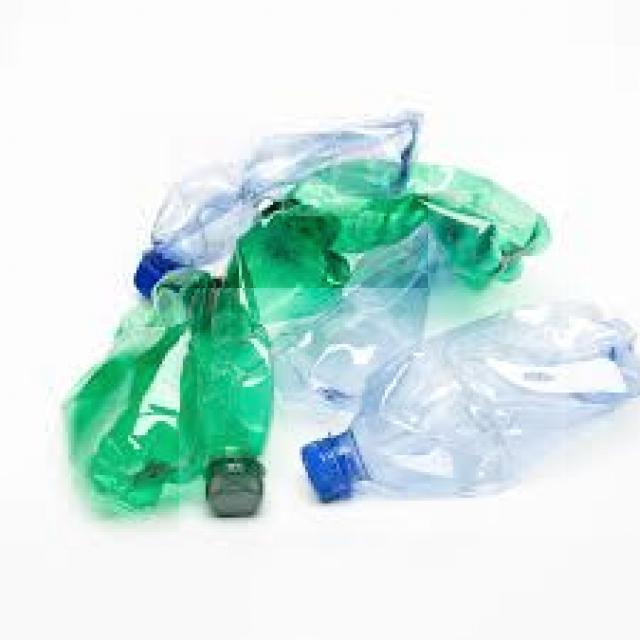defected: (303, 296, 640, 534), (181, 151, 568, 329), (50, 272, 283, 526), (122, 113, 428, 288)
